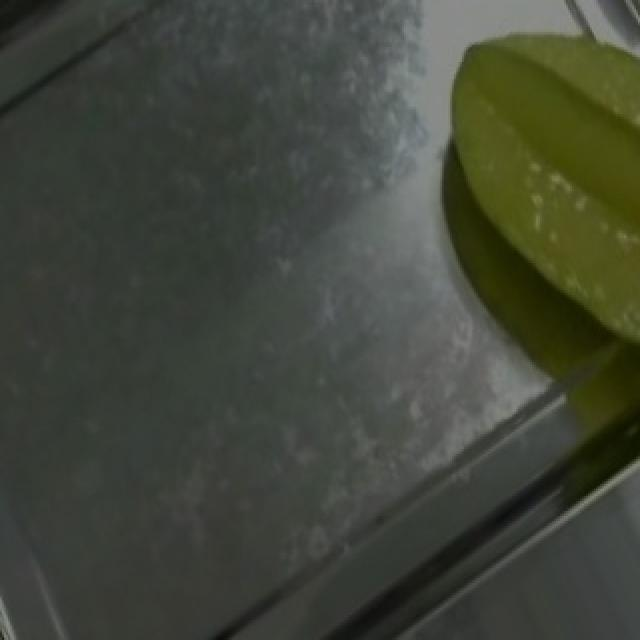fruit: (418, 5, 640, 384)
